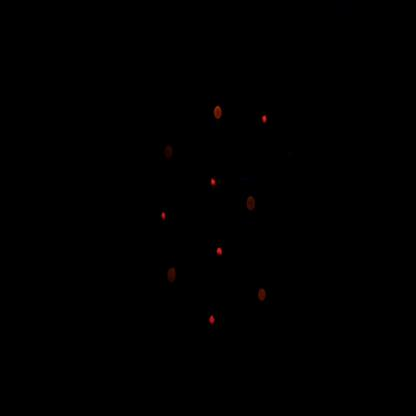PET: (256, 103, 275, 137), (206, 167, 223, 197), (212, 237, 229, 264), (205, 307, 220, 337), (157, 203, 173, 231)
PS: (250, 278, 274, 310), (161, 135, 178, 169), (243, 188, 260, 221), (164, 261, 181, 294), (210, 98, 227, 125)
